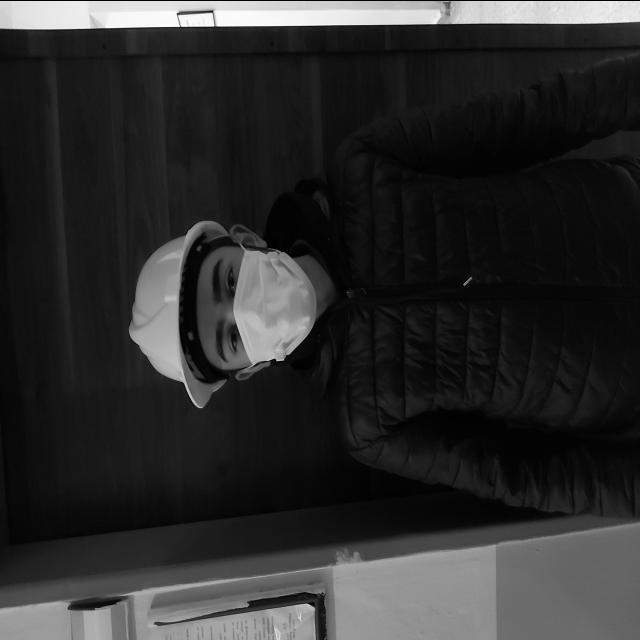safety_helmet: (129, 219, 229, 409)
